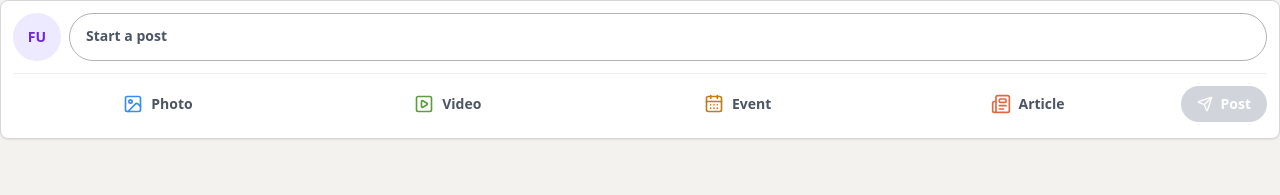
Test: CreatePostCard › submits trimmed post content and resets the composer on success
In the text box with placeholder "Start a post": (668, 37) [69,13,1267,61], type "  Hello network  "
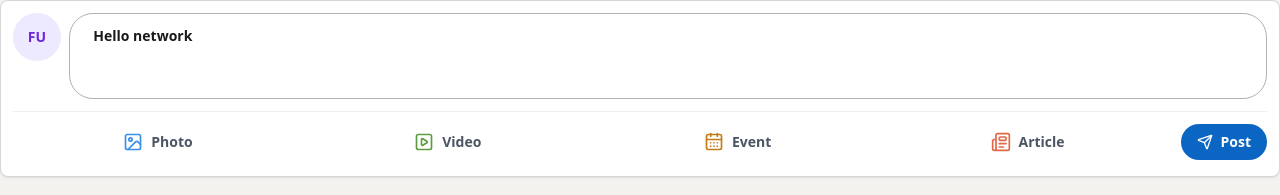
Click the button "Post": (1224, 142) [1180,124,1267,160]
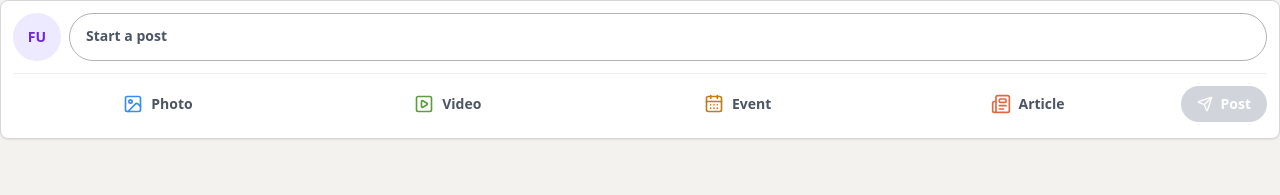
Check: the text box with placeholder "Start a post" is empty, box [69,13,1267,61]
Check: the button "Post" is disabled, box [1180,86,1267,122]
